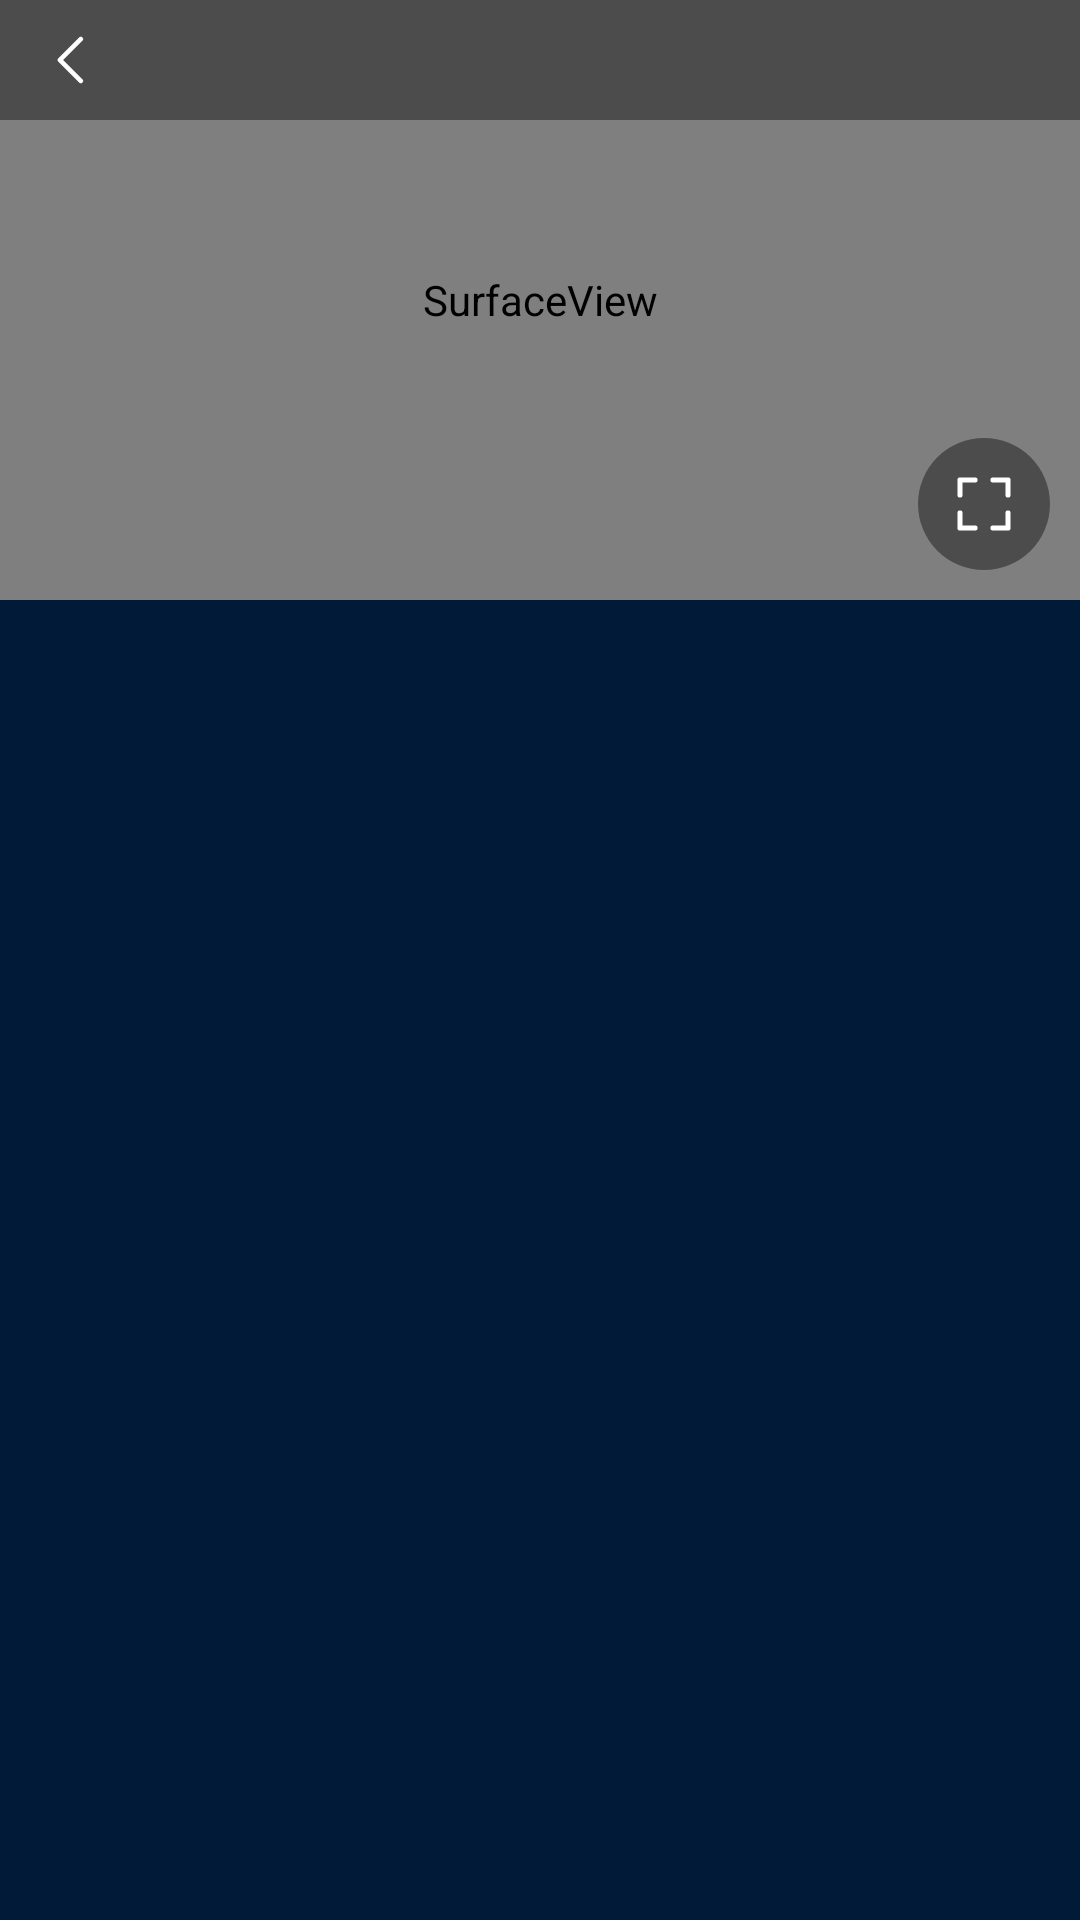

Point at icon controls on the screen. Image size 1080 x 1920, points as (x=x, y=y).
back: (x=70, y=60)
expand: (x=984, y=504)
